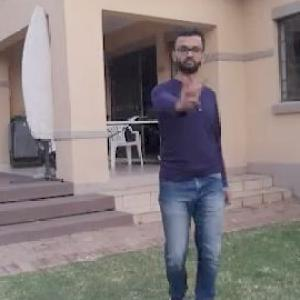takeoff-hand: (172, 65, 209, 114)
